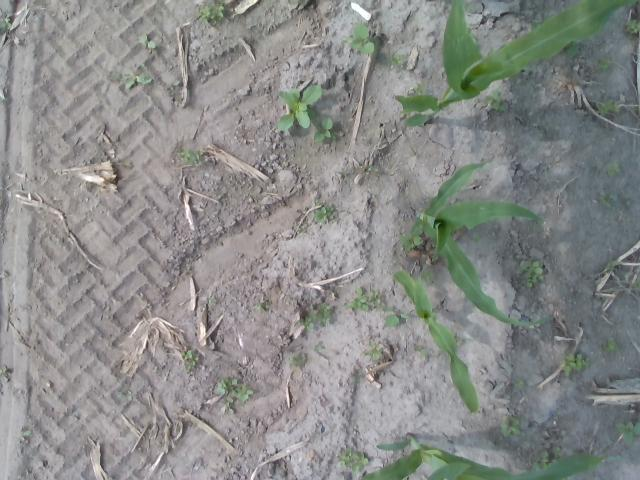Maize: (396, 0, 640, 127), (409, 160, 554, 332), (391, 269, 479, 412), (358, 433, 614, 480)
Weeds: (275, 84, 323, 132), (215, 376, 252, 414), (343, 22, 379, 54), (110, 65, 152, 90), (346, 288, 384, 312), (516, 259, 546, 288), (338, 447, 368, 475), (558, 352, 590, 377), (530, 446, 562, 471), (196, 1, 227, 26), (614, 420, 640, 444), (383, 304, 409, 328), (313, 118, 337, 142), (499, 413, 522, 437), (312, 199, 334, 224), (484, 88, 506, 112), (594, 98, 620, 118), (178, 146, 202, 164), (363, 340, 383, 361), (561, 38, 581, 59), (180, 348, 199, 370), (313, 303, 332, 325), (601, 336, 621, 356), (386, 52, 404, 71), (399, 233, 424, 246), (137, 34, 157, 50), (297, 315, 314, 333), (405, 82, 425, 96), (597, 188, 614, 204), (606, 161, 622, 177), (624, 18, 640, 34), (288, 352, 306, 366), (253, 300, 270, 314), (421, 269, 437, 282), (414, 345, 428, 359), (511, 377, 524, 390), (598, 57, 610, 71), (604, 260, 620, 270), (0, 17, 12, 30), (471, 234, 482, 244), (366, 164, 379, 172), (0, 368, 9, 376), (634, 278, 640, 290), (22, 428, 31, 436), (314, 344, 322, 352), (297, 227, 306, 233)
